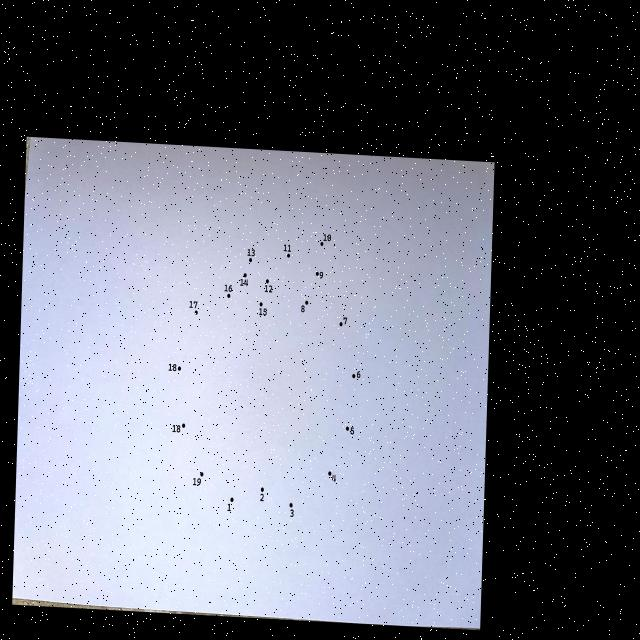Dot: (243, 273, 247, 278), (259, 302, 263, 307), (194, 310, 198, 315), (182, 423, 186, 428), (200, 472, 204, 477), (230, 497, 234, 502), (289, 503, 293, 508), (328, 471, 332, 476), (305, 300, 308, 306), (320, 242, 324, 246), (339, 322, 343, 326), (227, 294, 231, 298), (352, 374, 356, 378), (287, 253, 290, 258), (178, 366, 181, 371), (261, 487, 264, 492), (346, 426, 349, 431), (316, 272, 319, 276), (249, 258, 252, 262), (266, 279, 269, 283)
DotNumber: (192, 472, 204, 486), (172, 423, 186, 433), (320, 234, 331, 246), (264, 279, 273, 293), (189, 301, 198, 315), (168, 363, 182, 372), (284, 244, 292, 258), (240, 273, 248, 287), (259, 302, 267, 316), (248, 248, 255, 263), (225, 284, 232, 298), (227, 497, 234, 511), (328, 471, 336, 483), (301, 300, 308, 313), (340, 317, 348, 326), (346, 426, 354, 435), (289, 503, 294, 517), (316, 272, 324, 280), (352, 371, 361, 378), (260, 487, 264, 501)
Number: (264, 284, 272, 293), (172, 424, 181, 432), (323, 234, 331, 242), (284, 244, 292, 252), (240, 278, 248, 286), (259, 308, 267, 316), (168, 364, 176, 372), (193, 478, 201, 486), (189, 301, 198, 308), (225, 284, 232, 292), (248, 249, 255, 256), (350, 426, 355, 434), (319, 272, 324, 279), (356, 371, 361, 378), (343, 317, 347, 325), (228, 504, 232, 512), (260, 494, 264, 502), (290, 509, 294, 517), (332, 474, 336, 482), (301, 305, 305, 312)
